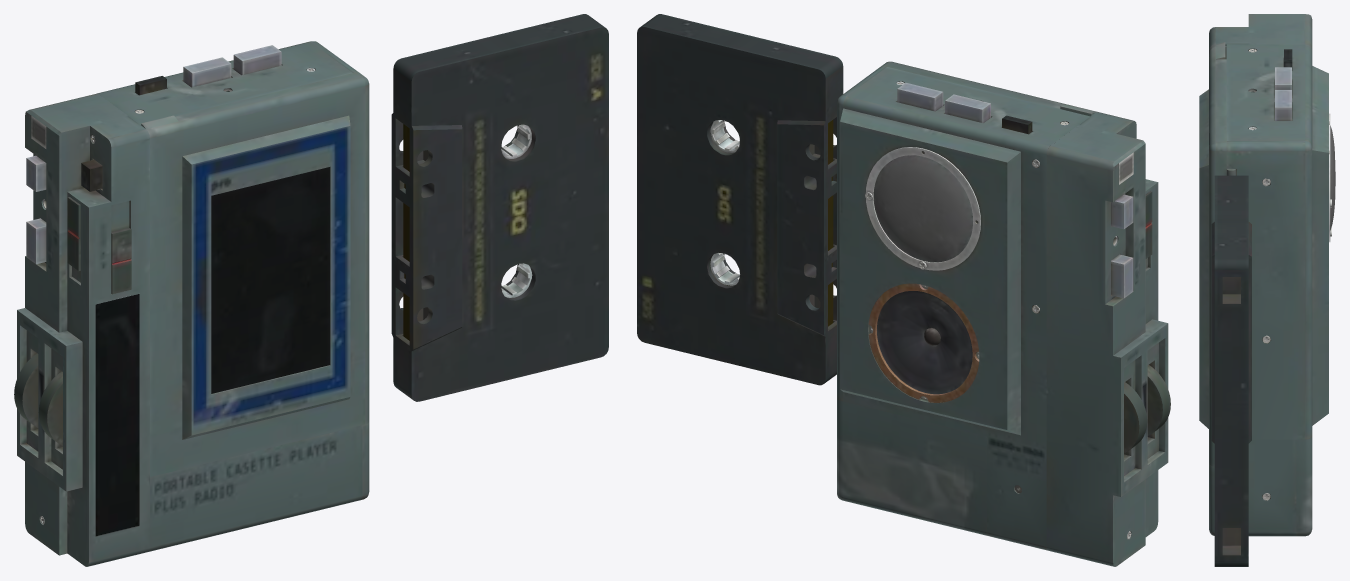
The model's file is portable_cassette_player.glb.
3 views of the same model, side by side, from view 1: azimuth 30°, elevation 25°; view 2: azimuth 150°, elevation 25°; view 3: azimuth 270°, elevation 25° (orthographic). The views are drawn at different scales.
Visible parts, largest first — view 1: portable_cassette_player_lid; view 2: portable_cassette_player_lid; view 3: portable_cassette_player_lid.
Boxes of the visible parts, bbox=[...] form: portable_cassette_player_lid: bbox=[14, 14, 608, 566]; portable_cassette_player_lid: bbox=[637, 14, 1170, 566]; portable_cassette_player_lid: bbox=[1199, 14, 1335, 566].
Size of the model in its own units: 0.1723 by 0.1303 by 0.0397.
Materials: 2 (2 with a texture image).
